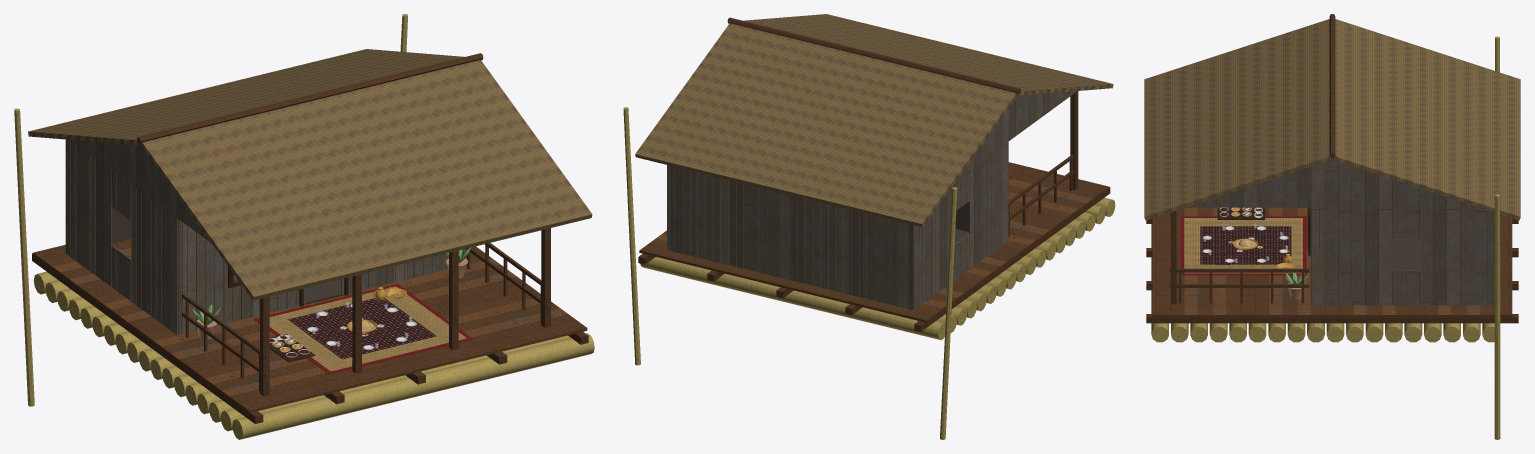
The model's file is dermaga2.glb.
The picture shows the model from 3 angles, left to right: view 1: azimuth 30°, elevation 25°; view 2: azimuth 150°, elevation 25°; view 3: azimuth 270°, elevation 25°; orthographic projection. The views are drawn at different scales.
Visible parts, largest first — view 1: rakit_atap, d2_kayu_papan, d2_kayu_lapuk, d2_bambu, d2_kayu_balok, d2_sepra, d2_tikar_anyam, d2_tikar_tepi, d2_ruang_gelap, d2_kayu_tua; view 2: rakit_atap, d2_kayu_lapuk, d2_bambu, d2_kayu_papan, d2_kayu_balok; view 3: rakit_atap, d2_kayu_lapuk, d2_kayu_papan, d2_bambu, d2_kayu_balok, d2_sepra, d2_ruang_gelap, d2_tikar_anyam, d2_tikar_tepi, d2_kayu_tua, d2_piring.
Part boxes in pixels (left/top/right/bottom): rakit_atap: left=28, top=49, right=592, bottom=300; d2_kayu_papan: left=33, top=238, right=587, bottom=413; d2_kayu_lapuk: left=65, top=139, right=466, bottom=334; d2_bambu: left=14, top=14, right=594, bottom=439; d2_kayu_balok: left=32, top=228, right=588, bottom=424; d2_sepra: left=288, top=298, right=436, bottom=359; d2_tikar_anyam: left=269, top=286, right=466, bottom=371; d2_tikar_tepi: left=254, top=283, right=473, bottom=374; d2_ruang_gelap: left=112, top=207, right=340, bottom=302; d2_kayu_tua: left=228, top=266, right=348, bottom=362; rakit_atap: left=635, top=14, right=1113, bottom=227; d2_kayu_lapuk: left=667, top=142, right=1008, bottom=309; d2_bambu: left=623, top=107, right=1115, bottom=439; d2_kayu_papan: left=639, top=162, right=1109, bottom=322; d2_kayu_balok: left=638, top=91, right=1110, bottom=331; rakit_atap: left=1144, top=14, right=1520, bottom=220; d2_kayu_lapuk: left=1310, top=207, right=1494, bottom=305; d2_kayu_papan: left=1152, top=207, right=1512, bottom=316; d2_bambu: left=1151, top=36, right=1500, bottom=439; d2_kayu_balok: left=1146, top=210, right=1518, bottom=323; d2_sepra: left=1200, top=226, right=1291, bottom=264; d2_ruang_gelap: left=1319, top=208, right=1489, bottom=303; d2_tikar_anyam: left=1184, top=218, right=1302, bottom=273; d2_tikar_tepi: left=1180, top=216, right=1306, bottom=275; d2_kayu_tua: left=1217, top=207, right=1319, bottom=255; d2_piring: left=1202, top=226, right=1288, bottom=262.
Bounding box in the file's own units: 8.94 × 7.35 × 8.9.
36 materials, 24 textured.
